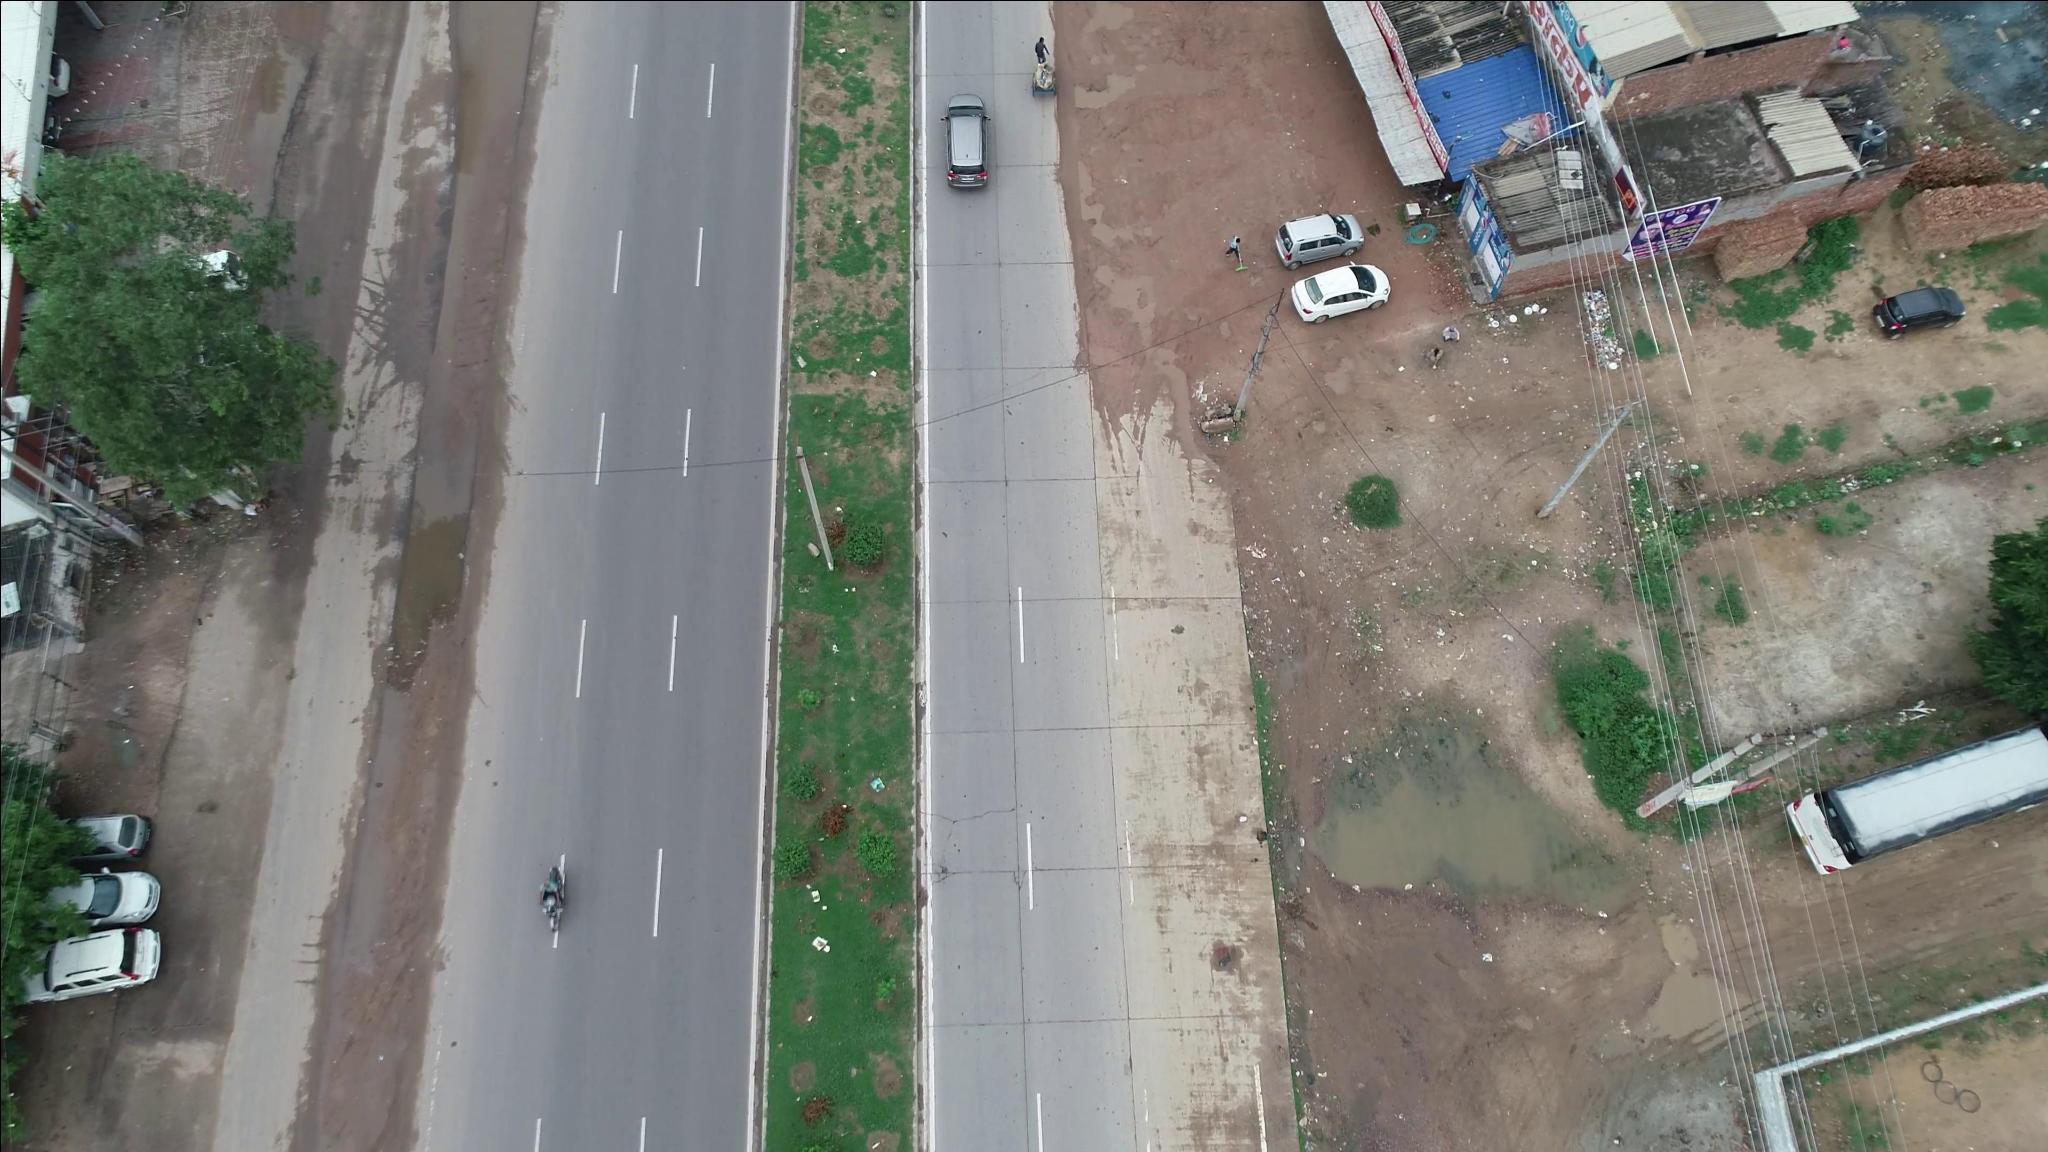Waterlogging: (371, 463, 466, 692)
